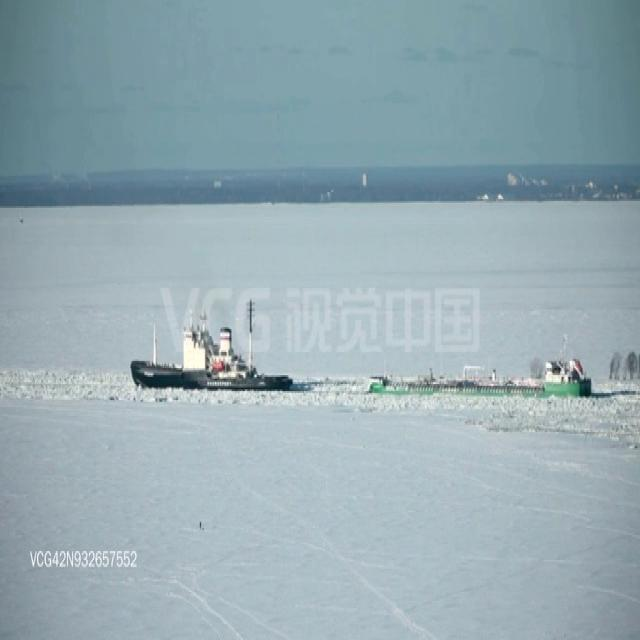cargoship: (364, 340, 588, 396)
houseboat: (131, 294, 303, 398)
